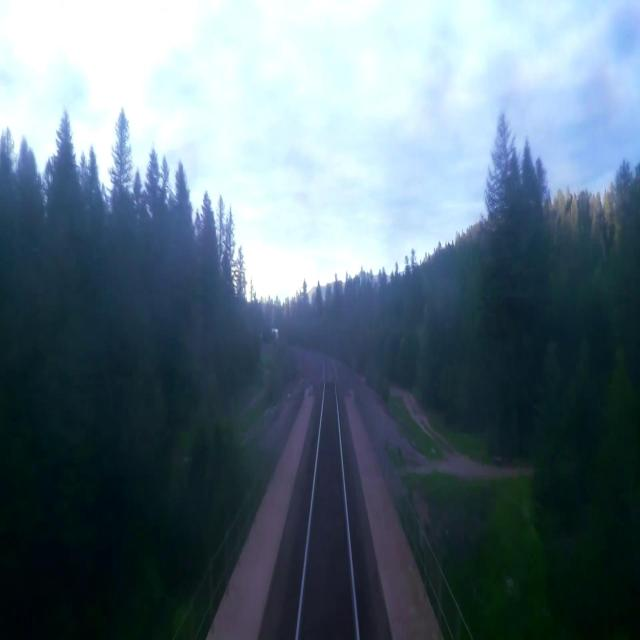rail-track: (300, 359, 355, 639)
